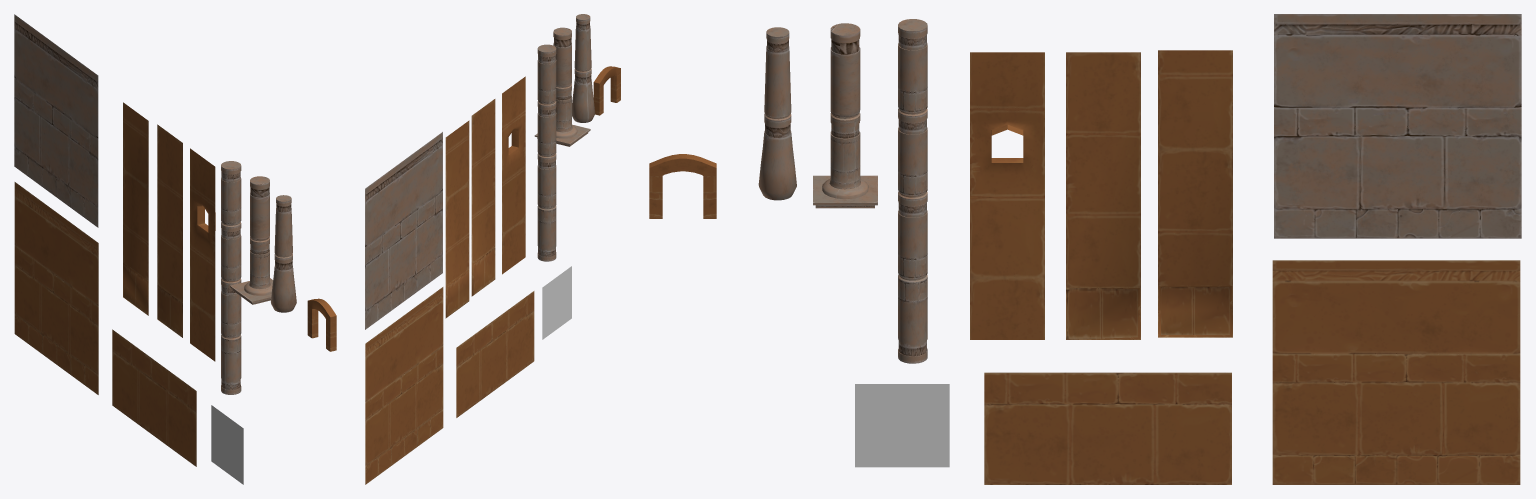
Rendered from Module.fbx.
3 views of the same model, side by side, from view 1: azimuth 30°, elevation 25°; view 2: azimuth 150°, elevation 25°; view 3: azimuth 270°, elevation 25° (orthographic). The views are drawn at different scales.
Parts seen in each view (by area): view 1: Plane018, Plane017, Plane019, 3st_074, 3st_059, 3st_080, 3st_077, 3st_075, 3st_097, 1st_144, Object167, Box115; view 2: Plane017, Plane018, Plane019, 3st_059, 3st_074, 3st_080, 3st_077, 3st_097, 3st_075, 1st_144, Object167, Box115; view 3: Plane017, Plane018, Plane019, 3st_059, 3st_074, 3st_080, 3st_077, 1st_144, 3st_075, 3st_097, Object167, Box115.
Boxes of the visible parts, <box> form: Plane018: <box>14,14,98,227</box>; Plane017: <box>14,182,98,394</box>; Plane019: <box>112,329,196,466</box>; 3st_074: <box>123,102,148,315</box>; 3st_059: <box>157,124,182,337</box>; 3st_080: <box>190,148,215,361</box>; 3st_077: <box>221,161,241,394</box>; 3st_075: <box>244,176,272,295</box>; 3st_097: <box>271,195,296,312</box>; 1st_144: <box>211,405,243,484</box>; Object167: <box>307,298,336,351</box>; Box115: <box>230,278,272,304</box>; Plane017: <box>365,287,443,484</box>; Plane018: <box>365,132,442,329</box>; Plane019: <box>456,291,534,417</box>; 3st_059: <box>471,99,495,296</box>; 3st_074: <box>445,120,469,318</box>; 3st_080: <box>502,76,525,274</box>; 3st_077: <box>537,44,556,261</box>; 3st_097: <box>572,14,595,122</box>; 3st_075: <box>553,27,577,138</box>; 1st_144: <box>542,266,571,339</box>; Object167: <box>593,66,620,115</box>; Box115: <box>534,124,590,146</box>; Plane017: <box>1272,260,1520,484</box>; Plane018: <box>1274,14,1521,238</box>; Plane019: <box>984,372,1231,484</box>; 3st_059: <box>1066,52,1140,339</box>; 3st_074: <box>1158,50,1232,337</box>; 3st_080: <box>970,52,1044,339</box>; 3st_077: <box>898,19,927,363</box>; 1st_144: <box>855,384,949,467</box>; 3st_075: <box>822,23,868,199</box>; 3st_097: <box>758,27,796,200</box>; Object167: <box>649,154,716,218</box>; Box115: <box>813,175,877,208</box>.
Bounding box in the file's own units: 787 × 6292 × 10562.
